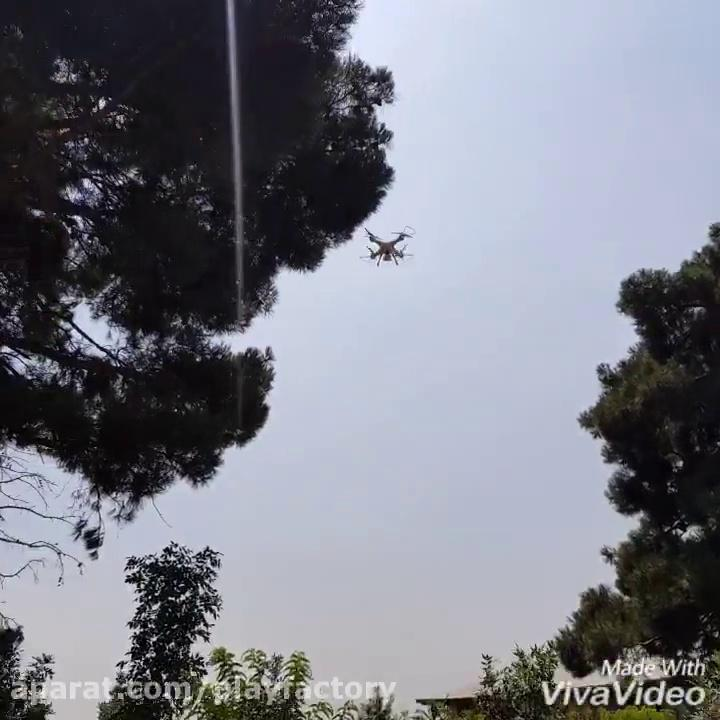drone: (356, 222, 418, 266)
